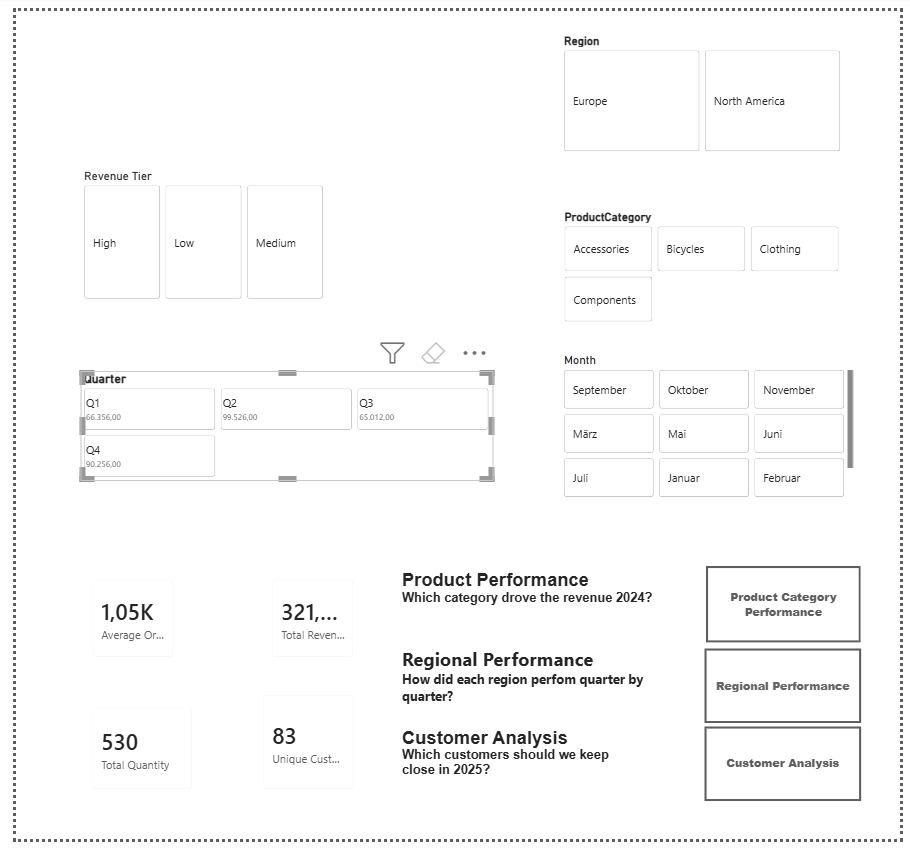

This screenshot's page, from the dashboard's own definition file:
{"tool":"powerbi","page":{"name":"Overview","canvas":[1280,1200],"ordinal":0},"visuals":[{"type":"cardVisual","fields":{"Data":["FactOrders.Total Revenue"]},"box":[355.3,806.4,151.1,146.8],"z":0},{"type":"cardVisual","fields":{"Data":["FactOrders.Total Quantity"]},"box":[93.6,993.6,178.7,151.1],"z":1000},{"type":"cardVisual","fields":{"Data":["FactOrders.Average Order Value"]},"box":[93.6,806.4,151.1,146.8],"z":2000},{"type":"cardVisual","fields":{"Data":["FactOrders.Unique Customers"]},"box":[340.4,974.5,166,170.2],"z":3000},{"type":"advancedSlicerVisual","fields":{"Values":["FactOrders.Revenue Tier"]},"box":[93.6,227.7,357.4,193.6],"z":4000},{"type":"actionButton","box":[997.3,1037.8,227,108.1],"z":5000},{"type":"actionButton","box":[997.3,924.3,227,108.1],"z":6000},{"type":"actionButton","box":[1000,805.4,224.3,110.8],"z":7000},{"type":"textbox","box":[554.1,805.4,416.2,110.8],"z":8000},{"type":"textbox","box":[554.1,916.2,386.5,116.2],"z":9000},{"type":"textbox","box":[554.1,1032.4,356.8,113.5],"z":10000},{"type":"advancedSlicerVisual","fields":{"Values":["DIMRegion.Region"]},"box":[789.2,32.4,410.8,175.7],"z":11000},{"type":"advancedSlicerVisual","fields":{"Values":["DIMProduct.ProductCategory"]},"box":[789.2,286.5,410.8,170.3],"z":12000},{"type":"advancedSlicerVisual","fields":{"Values":["DimDate.Month Name"]},"box":[789.2,494.6,429.7,213.5],"z":13000},{"type":"advancedSlicerVisual","title":"Quarter","fields":{"Values":["FactOrders.Quantity"],"Label":["FactOrders.Total Revenue"]},"box":[93.6,521.3,597.9,159.6],"z":14000}]}

Visuals, with their boxes in screenshot pixels (x1, y1, x2, y2), scaled from the page's 1280x1200 canvas onto the 910x853 screenshot:
cardVisual - FactOrders.Total Revenue: region(253, 573, 360, 678)
cardVisual - FactOrders.Total Quantity: region(67, 706, 194, 814)
cardVisual - FactOrders.Average Order Value: region(67, 573, 174, 678)
cardVisual - FactOrders.Unique Customers: region(242, 693, 360, 814)
advancedSlicerVisual - FactOrders.Revenue Tier: region(67, 162, 321, 299)
actionButton: region(709, 738, 870, 815)
actionButton: region(709, 657, 870, 734)
actionButton: region(711, 573, 870, 651)
textbox: region(394, 573, 690, 651)
textbox: region(394, 651, 669, 734)
textbox: region(394, 734, 648, 815)
advancedSlicerVisual - DIMRegion.Region: region(561, 23, 853, 148)
advancedSlicerVisual - DIMProduct.ProductCategory: region(561, 204, 853, 325)
advancedSlicerVisual - DimDate.Month Name: region(561, 352, 867, 503)
"Quarter" advancedSlicerVisual: region(67, 371, 492, 484)
